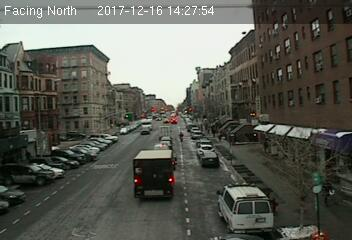bicycle: (178, 131, 185, 143)
car: (200, 151, 220, 166)
police: (214, 182, 276, 237)
ups: (131, 149, 178, 200)
